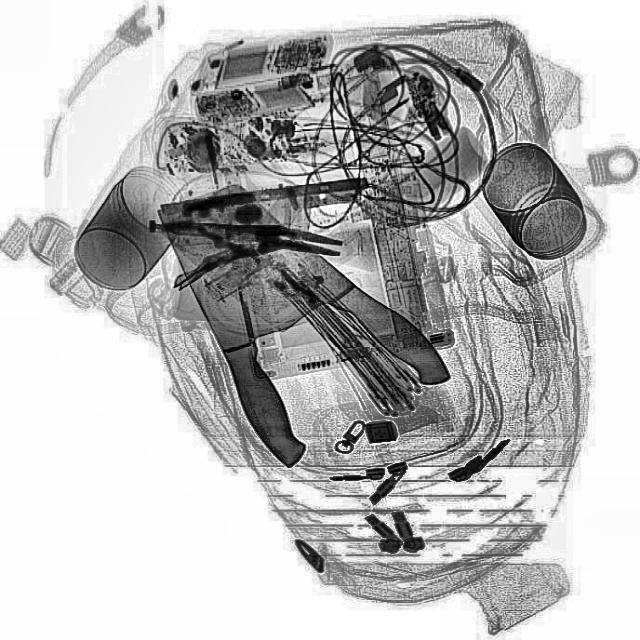Knife: (152, 162, 458, 434), (153, 174, 361, 472)
